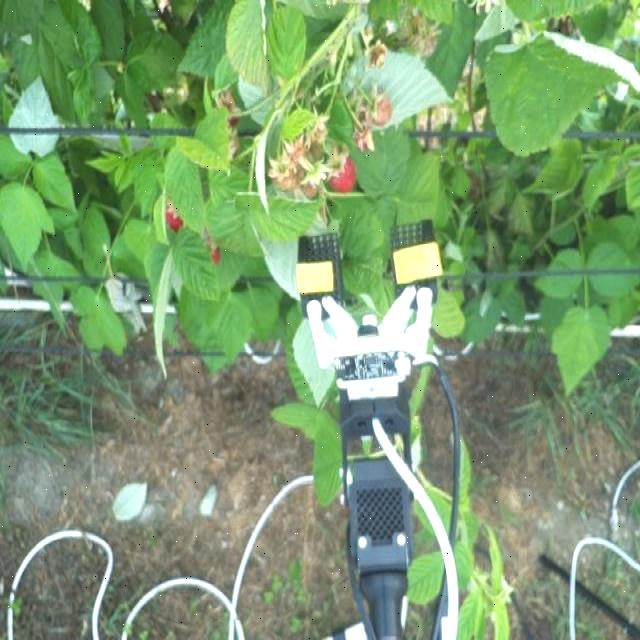Riped berries: (324, 146, 362, 192), (163, 200, 187, 234), (204, 237, 225, 267)
